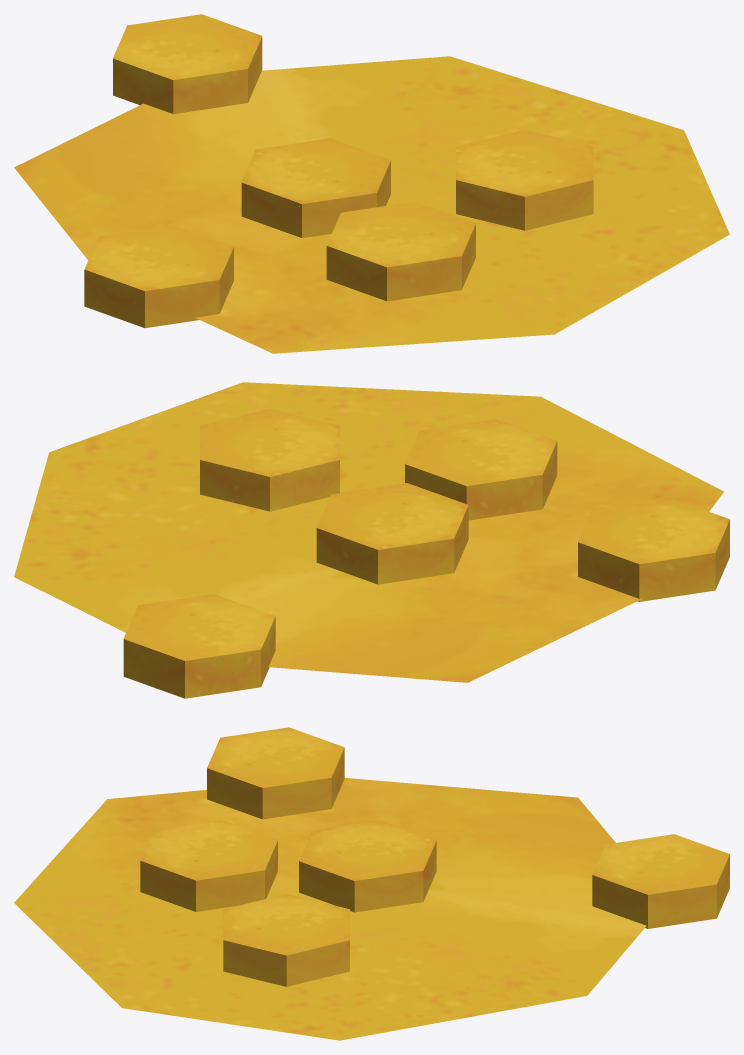
File: SM_goldPile1.fbx
3 views of the same model, one above another, from view 1: azimuth 30°, elevation 25°; view 2: azimuth 150°, elevation 25°; view 3: azimuth 270°, elevation 25° (orthographic). The views are drawn at different scales.
Parts seen in each view (by area): view 1: goldPile1; view 2: goldPile1; view 3: goldPile1.
Part boxes in pixels (x1,y1,x2,y2): goldPile1: (14,14,729,353); goldPile1: (14,382,729,698); goldPile1: (14,727,729,1040).
Bounding box in the file's own units: 11.37 × 0.6416 × 12.2.
